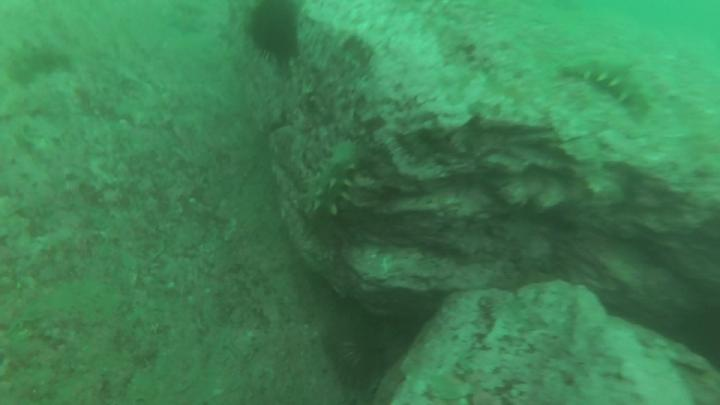echinus: (245, 1, 301, 64)
holothurian: (562, 55, 655, 123), (299, 136, 367, 222), (9, 37, 74, 91)
